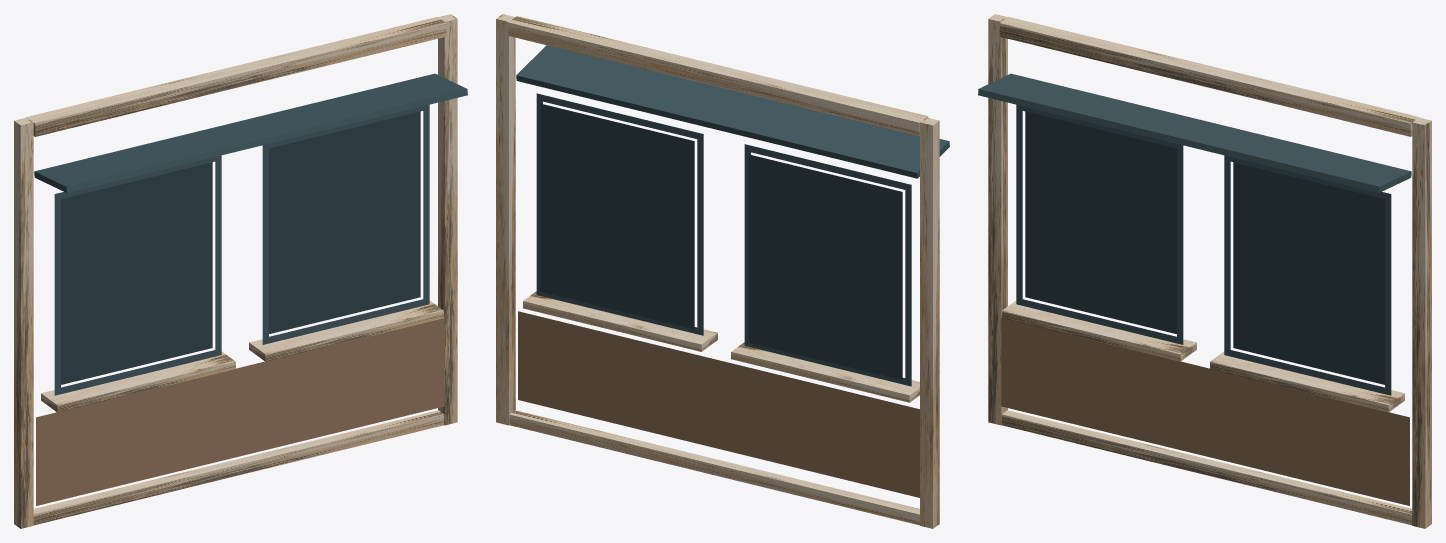
File: facade_retail_shutter_upper.glb
The picture shows the model from 3 angles, left to right: view 1: azimuth 30°, elevation 25°; view 2: azimuth 150°, elevation 25°; view 3: azimuth 330°, elevation 25°; orthographic projection.
Parts seen in each view (by area): view 1: lod1_facade_retail_shutter_upper__VVK_dark_glass, lod1_facade_retail_shutter_upper__VVK_concrete_CC0, lod1_facade_retail_shutter_upper__VVK_masonry, lod1_facade_retail_shutter_upper__VVK_painted_steel; view 2: lod1_facade_retail_shutter_upper__VVK_dark_glass, lod1_facade_retail_shutter_upper__VVK_concrete_CC0, lod1_facade_retail_shutter_upper__VVK_masonry, lod1_facade_retail_shutter_upper__VVK_painted_steel; view 3: lod1_facade_retail_shutter_upper__VVK_dark_glass, lod1_facade_retail_shutter_upper__VVK_concrete_CC0, lod1_facade_retail_shutter_upper__VVK_masonry, lod1_facade_retail_shutter_upper__VVK_painted_steel.
Boxes of the visible parts, x1,y1,x2,y2 form: lod1_facade_retail_shutter_upper__VVK_dark_glass: (61,111,420,384); lod1_facade_retail_shutter_upper__VVK_concrete_CC0: (14,14,457,528); lod1_facade_retail_shutter_upper__VVK_masonry: (36,317,444,505); lod1_facade_retail_shutter_upper__VVK_painted_steel: (34,73,467,395); lod1_facade_retail_shutter_upper__VVK_dark_glass: (540,103,902,379); lod1_facade_retail_shutter_upper__VVK_concrete_CC0: (496,14,939,528); lod1_facade_retail_shutter_upper__VVK_masonry: (518,311,919,497); lod1_facade_retail_shutter_upper__VVK_painted_steel: (516,45,949,386); lod1_facade_retail_shutter_upper__VVK_dark_glass: (1025,111,1384,384); lod1_facade_retail_shutter_upper__VVK_concrete_CC0: (988,14,1431,528); lod1_facade_retail_shutter_upper__VVK_masonry: (1001,317,1409,505); lod1_facade_retail_shutter_upper__VVK_painted_steel: (978,73,1411,395).
Bounding box in the file's own units: 3.4 × 3 × 0.479.
4 materials, 1 textured.
